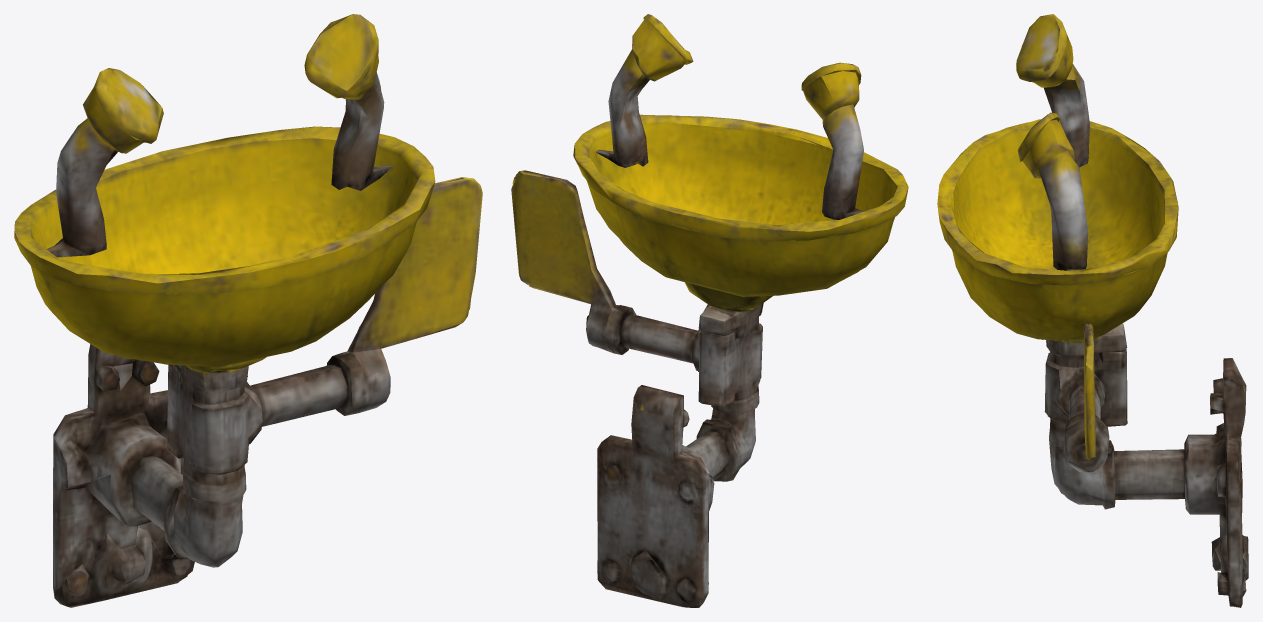
Rendered from p7-eyewash-station.glb.
3 renders of one model, left to right at view 1: azimuth 30°, elevation 25°; view 2: azimuth 150°, elevation 25°; view 3: azimuth 270°, elevation 25°, orthographic. The views are drawn at different scales.
Parts seen in each view (by area): view 1: p7-eyewash-station; view 2: p7-eyewash-station; view 3: p7-eyewash-station.
Boxes of the visible parts, x1,y1,x2,y2 form: p7-eyewash-station: [14, 14, 482, 607]; p7-eyewash-station: [511, 14, 908, 607]; p7-eyewash-station: [937, 14, 1248, 607].
Size of the model in its own units: 0.5449 by 0.7 by 0.3809.
Materials: 1 (1 with a texture image).
